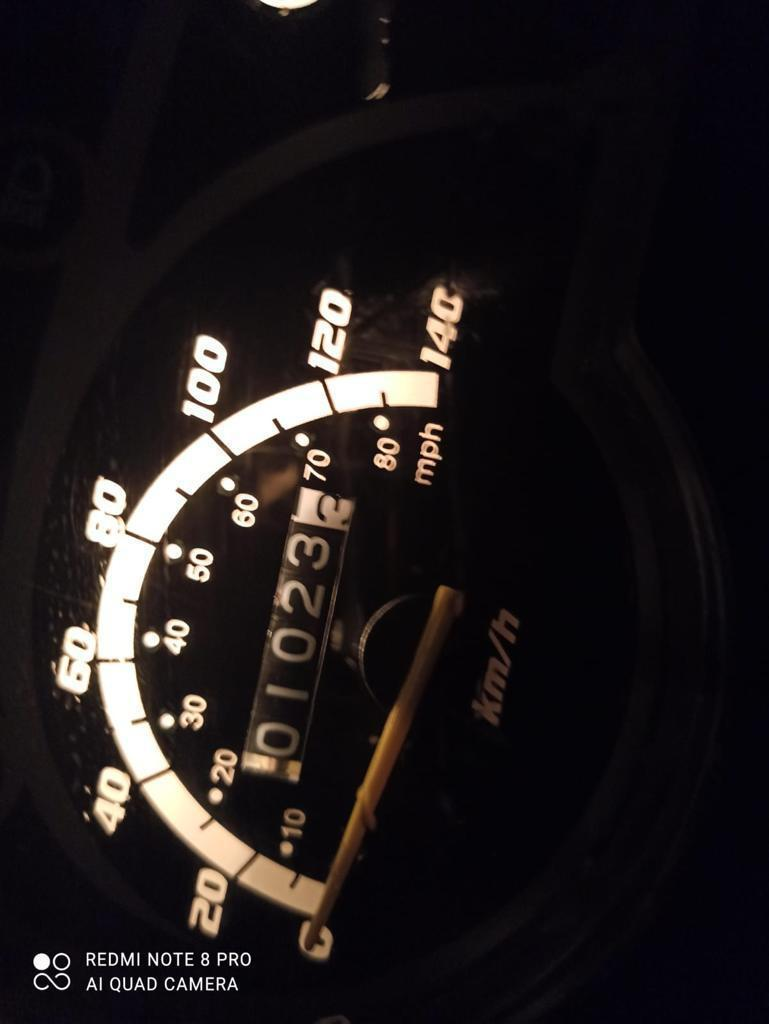0: (248, 719, 304, 762), (263, 625, 323, 662), (233, 489, 263, 511)
1: (251, 677, 322, 704)
2: (273, 578, 330, 617)
3: (277, 533, 339, 567), (307, 492, 359, 525)
6: (227, 511, 261, 527)
odometer: (234, 480, 360, 800)
